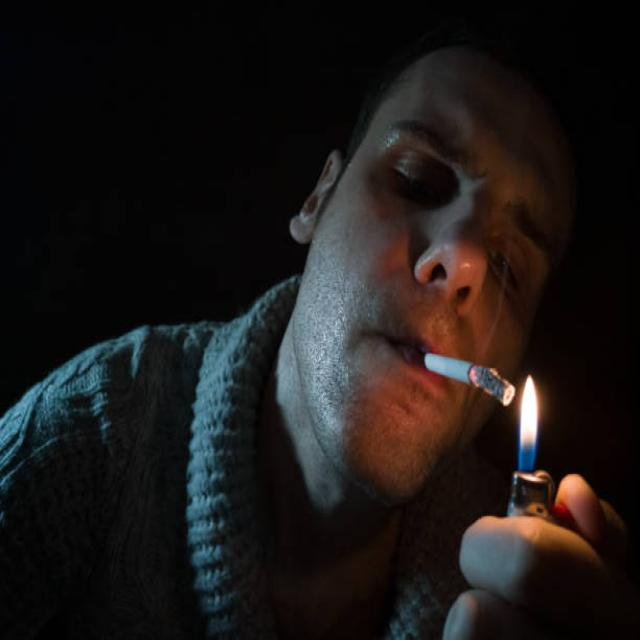fire: (517, 373, 540, 472)
